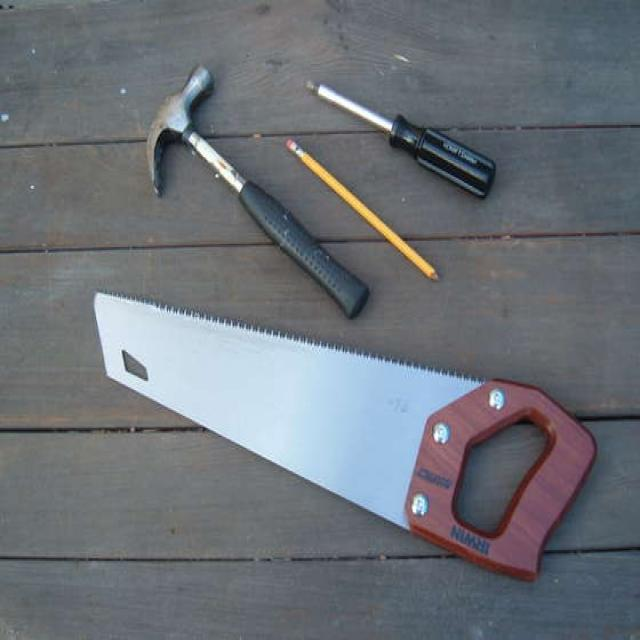hammer: (98, 46, 368, 314)
screw driver: (298, 46, 516, 193)
